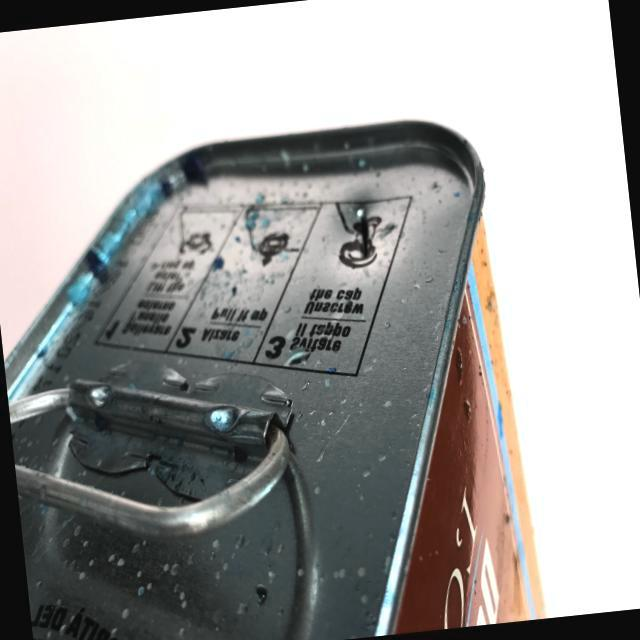metal: (0, 74, 570, 640)
